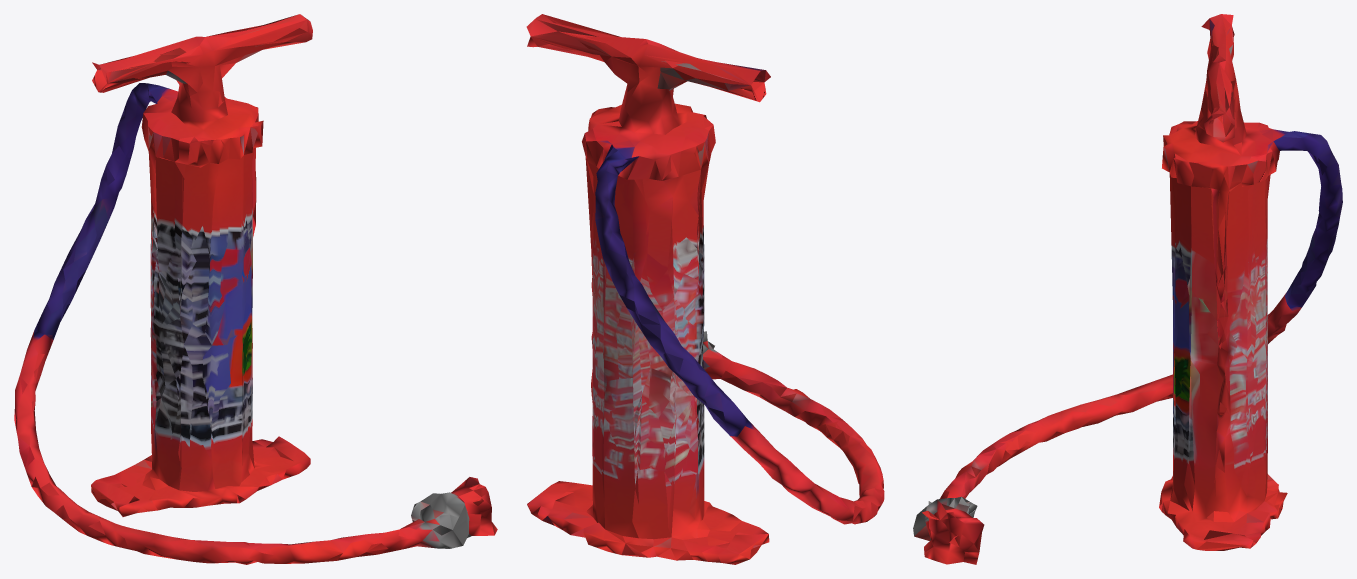
File: pump.glb
3 views of the same model, side by side, from view 1: azimuth 30°, elevation 25°; view 2: azimuth 150°, elevation 25°; view 3: azimuth 270°, elevation 25° (orthographic). The views are drawn at different scales.
Parts seen in each view (by area): view 1: texture_pbr_v128; view 2: texture_pbr_v128; view 3: texture_pbr_v128.
Boxes of the visible parts, bbox=[...] form: texture_pbr_v128: bbox=[14, 14, 497, 564]; texture_pbr_v128: bbox=[526, 14, 884, 564]; texture_pbr_v128: bbox=[913, 14, 1342, 564].
Bounding box in the file's own units: 0.6465 × 0.8268 × 0.7214.
Materials: 1 (1 with a texture image).
